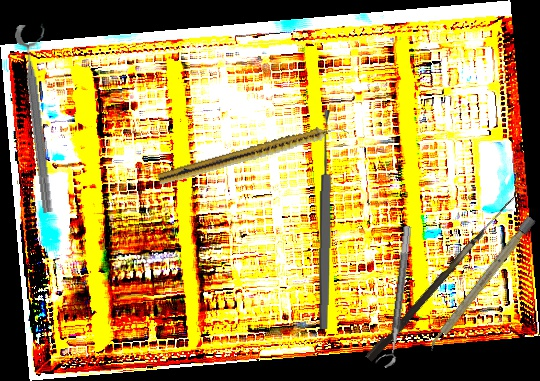Fixation Ring: (14, 22, 69, 214), (374, 224, 413, 369)
Handpiece: (156, 119, 350, 190)
Hook Surgical: (365, 188, 516, 365)
Scalpel Handle: (425, 215, 537, 353)
Surgical Spoon: (317, 109, 334, 330)
